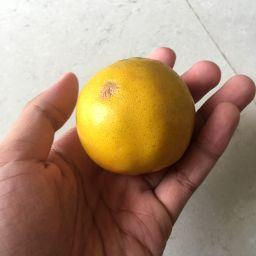Unripe: (77, 58, 197, 169)
